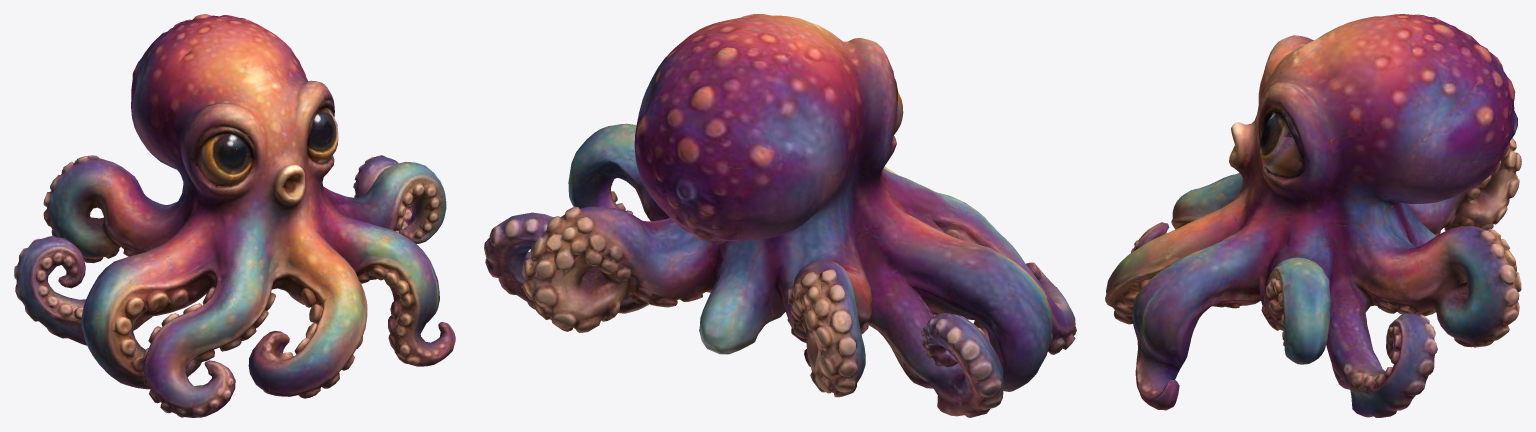
3 views of the same model, side by side, from view 1: azimuth 30°, elevation 25°; view 2: azimuth 150°, elevation 25°; view 3: azimuth 270°, elevation 25° (orthographic). The views are drawn at different scales.
Size of the model in its own units: 1.9 by 1.29 by 1.51.
1 material, 1 textured.
